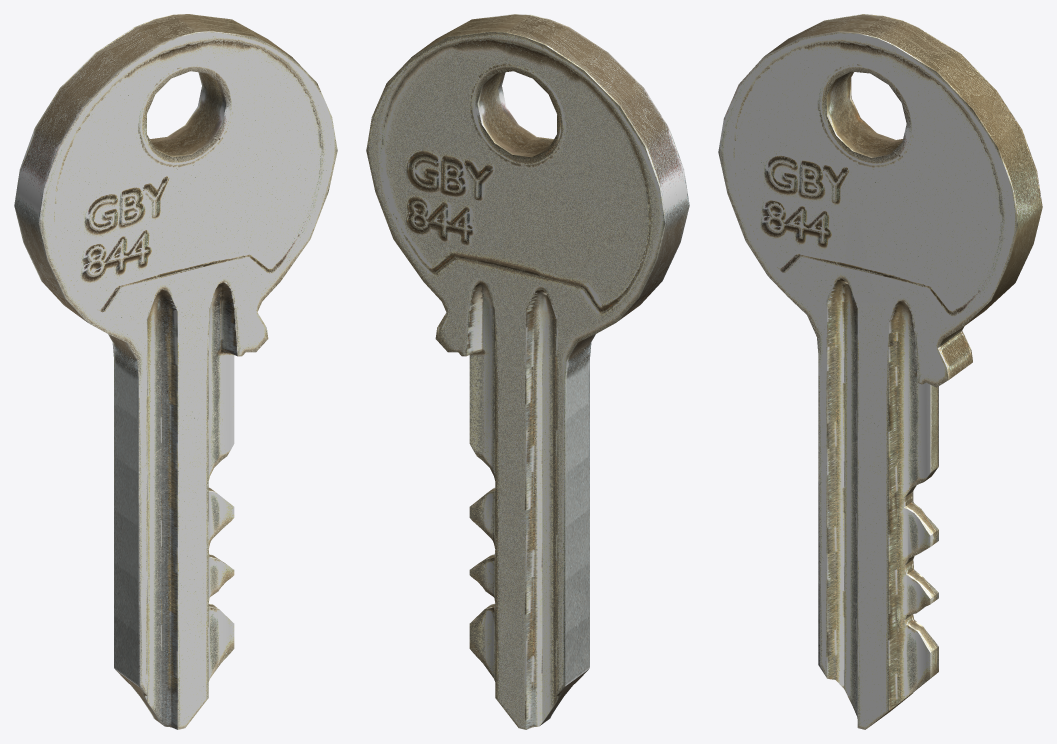
The model's file is door_key.glb.
3 renders of one model, left to right at view 1: azimuth 30°, elevation 25°; view 2: azimuth 150°, elevation 25°; view 3: azimuth 330°, elevation 25°, orthographic.
Visible parts, largest first — view 1: Key 3 lp; view 2: Key 3 lp; view 3: Key 3 lp.
Boxes of the visible parts, x1,y1,x2,y2 form: Key 3 lp: (14,14,337,729); Key 3 lp: (366,14,689,729); Key 3 lp: (718,14,1042,729).
Size of the model in its own units: 0.8533 by 1.89 by 0.1209.
1 material, 1 textured.
